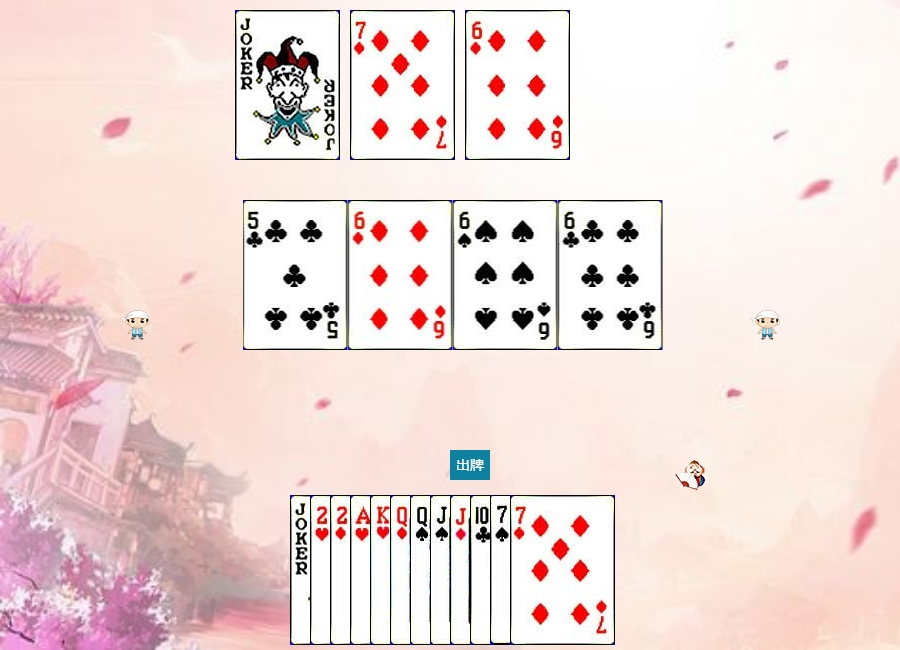10~2: (470, 495, 575, 645)
11~1: (450, 495, 555, 645)
11~4: (430, 495, 535, 645)
12~1: (390, 495, 495, 645)
12~4: (410, 495, 515, 645)
13~3: (370, 495, 475, 645)
14~3: (350, 495, 455, 645)
15~1: (330, 495, 435, 645)
15~3: (310, 495, 415, 645)
17~3: (235, 10, 340, 160), (290, 495, 395, 645)
5~2: (243, 200, 348, 350)
6~1: (465, 10, 570, 160), (348, 200, 453, 350)
6~2: (558, 200, 663, 350)
6~4: (453, 200, 558, 350)
7~1: (350, 10, 455, 160), (510, 495, 615, 645)
7~4: (490, 495, 595, 645)
